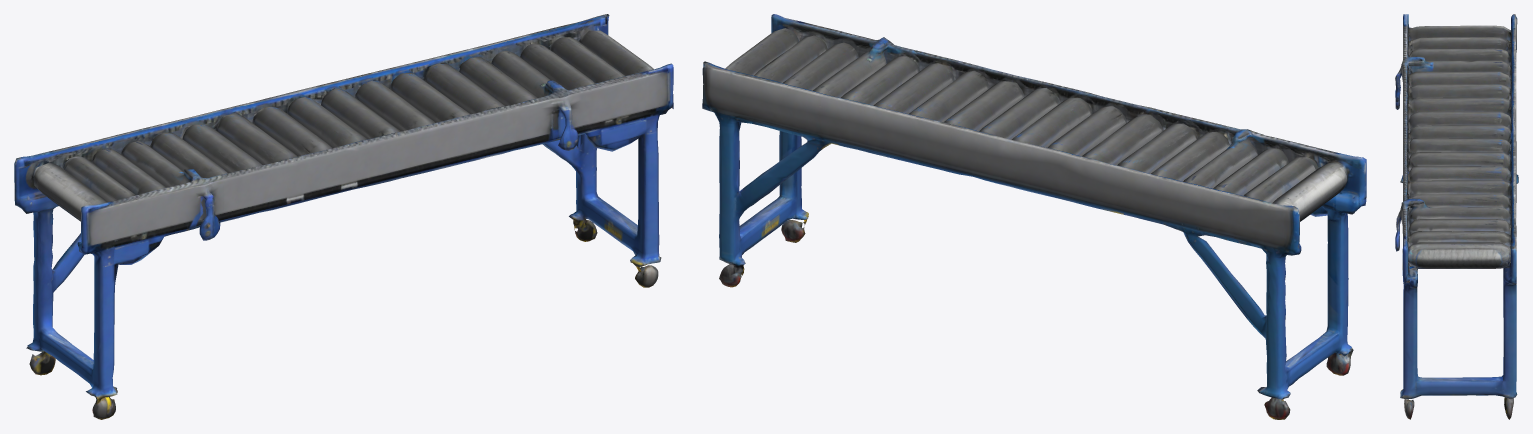
The model's file is b03a3b57-804e-4eb2-aba9-7725c40513af.glb.
The picture shows the model from 3 angles, left to right: view 1: azimuth 30°, elevation 25°; view 2: azimuth 150°, elevation 25°; view 3: azimuth 270°, elevation 25°; orthographic projection. The views are drawn at different scales.
Size of the model in its own units: 1.99 by 0.7156 by 0.4402.
Materials: 1 (1 with a texture image).
